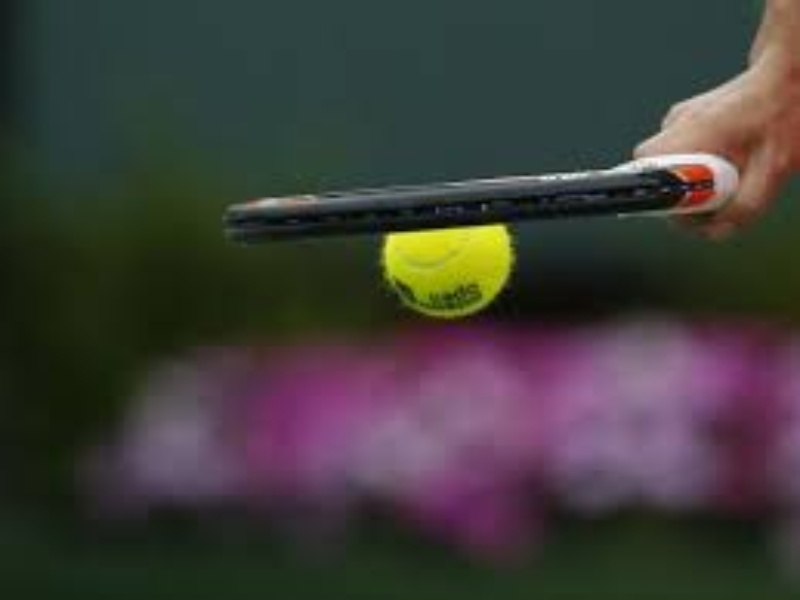tennis ball: (353, 234, 562, 343)
